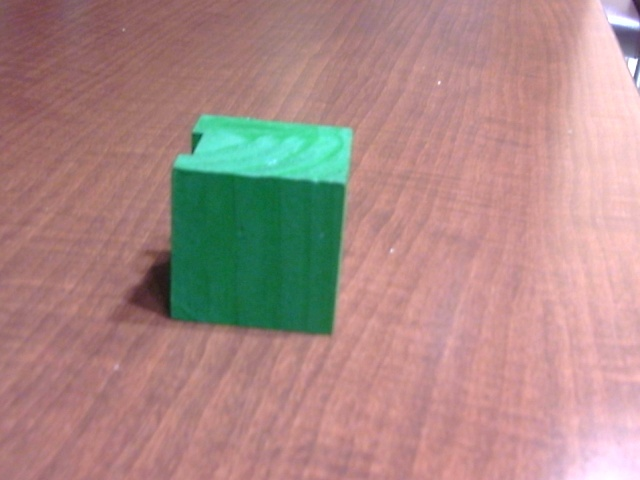GreenBlock: (170, 115, 352, 336)
